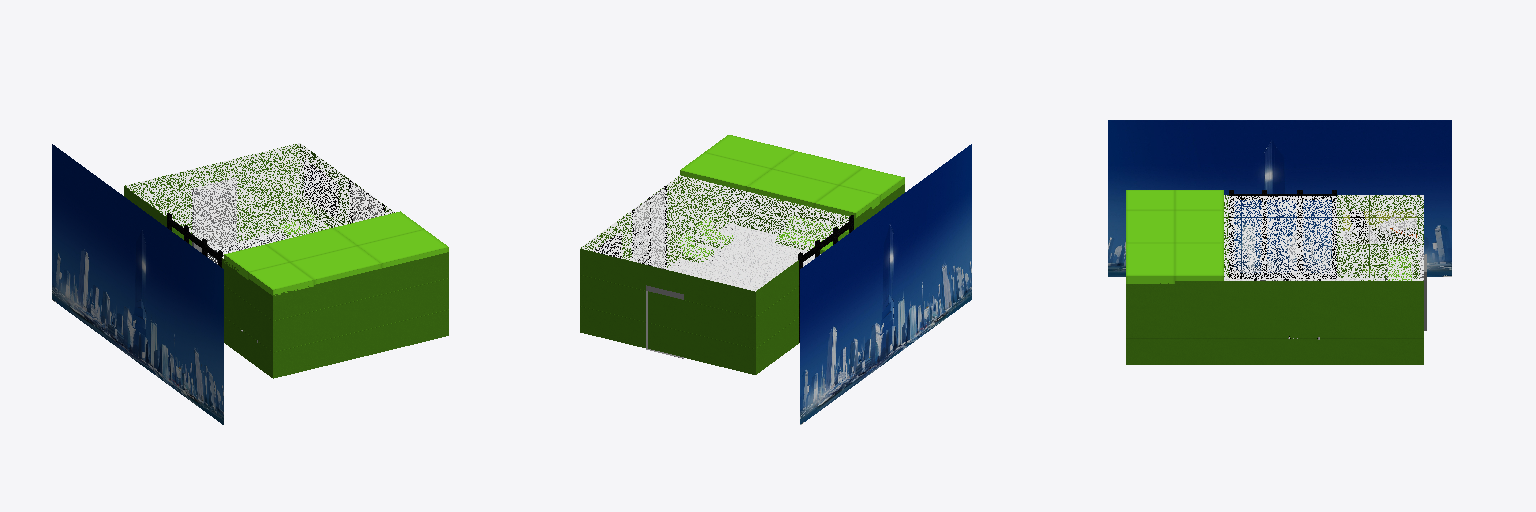
3 renders of one model, left to right at view 1: azimuth 30°, elevation 25°; view 2: azimuth 150°, elevation 25°; view 3: azimuth 270°, elevation 25°, orthographic.
Visible parts, largest first — view 1: Plane013, Plane007, Plane011, Plane012, Plane008, Box002, Box003, Box004, Box001, Box006, Box005, Plane009; view 2: Plane013, Plane008, Plane011, Plane010, Box004, Box001, Box002, Plane003, Box003, Plane009, Box005, Box006 (+3 smaller); view 3: Plane013, Plane009, Plane011, Box002, Box001, Box003, Box004, Plane010, Box005, Box006, S_Painting_02.
Boxes of the visible parts, <box> form: Plane013: <box>52,144,223,424</box>; Plane007: <box>273,252,448,378</box>; Plane011: <box>126,143,393,258</box>; Plane012: <box>222,258,272,377</box>; Plane008: <box>125,144,299,245</box>; Box002: <box>358,229,448,268</box>; Box003: <box>290,246,380,284</box>; Box004: <box>266,228,357,261</box>; Box001: <box>334,211,423,244</box>; Box006: <box>249,262,313,295</box>; Box005: <box>224,244,288,279</box>; Plane009: <box>300,144,394,232</box>; Plane013: <box>800,144,971,424</box>; Plane008: <box>580,249,755,374</box>; Plane011: <box>580,175,848,290</box>; Plane010: <box>756,260,798,374</box>; Box004: <box>747,169,838,208</box>; Box001: <box>680,152,771,190</box>; Box002: <box>705,135,795,168</box>; Plane003: <box>667,224,820,291</box>; Box003: <box>773,151,863,184</box>; Plane009: <box>581,176,728,267</box>; Box005: <box>815,185,879,218</box>; Box006: <box>840,168,904,201</box>; Plane013: <box>1108,120,1451,276</box>; Plane009: <box>1126,281,1423,364</box>; Plane011: <box>1224,195,1423,280</box>; Box002: <box>1126,243,1174,283</box>; Box001: <box>1175,243,1223,280</box>; Box003: <box>1126,210,1174,242</box>; Box004: <box>1175,210,1223,242</box>; Plane010: <box>1337,195,1423,278</box>; Box005: <box>1175,190,1223,209</box>; Box006: <box>1126,190,1174,209</box>; S_Painting_02: <box>1343,211,1416,243</box>.
Size of the model in its own units: 1004 by 635 by 1268.
Materials: 37 (13 with a texture image).